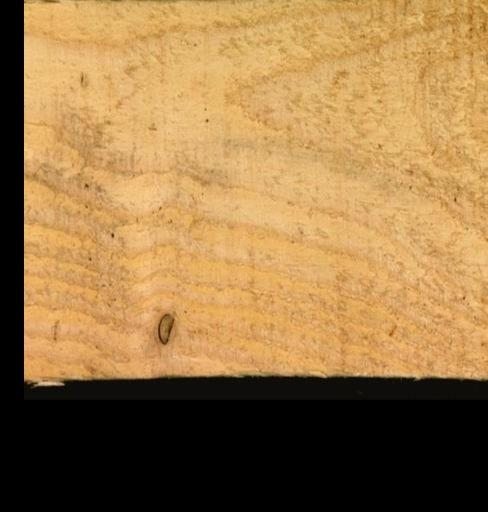dry_knot: (155, 310, 174, 345)
